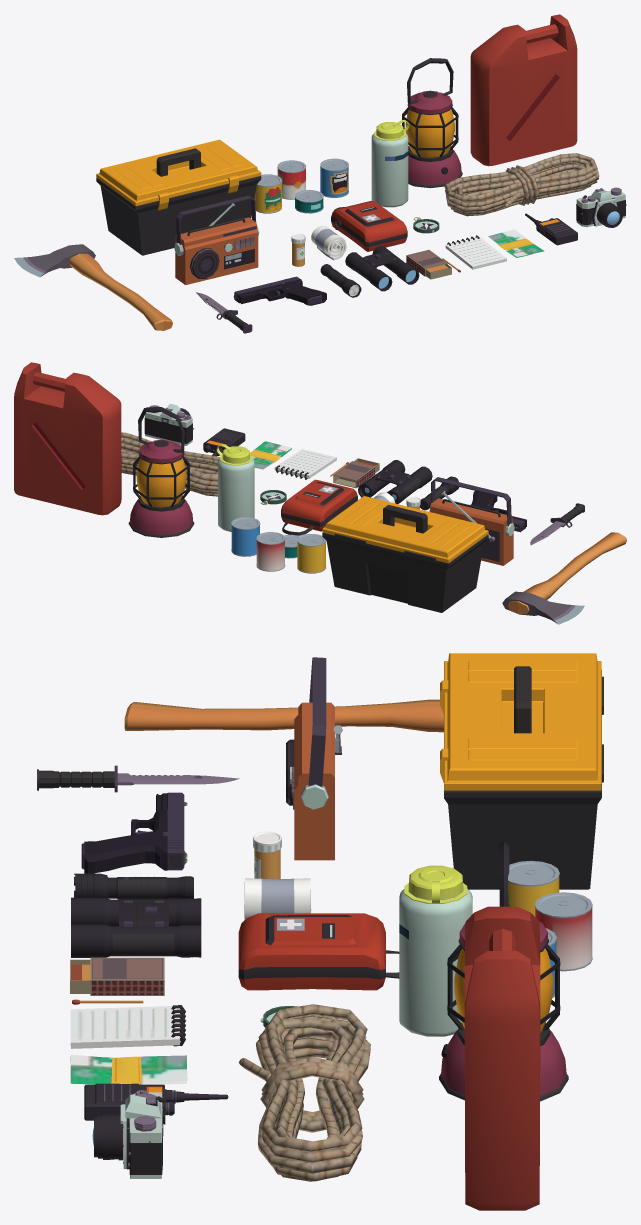
The model's file is survival-props.glb.
3 renders of one model, top to bottom at view 1: azimuth 30°, elevation 25°; view 2: azimuth 150°, elevation 25°; view 3: azimuth 270°, elevation 25°, orthographic. The views are drawn at different scales.
Parts seen in each view (by area): view 1: axe_001_survivalpropsMAT_0; view 2: axe_001_survivalpropsMAT_0; view 3: axe_001_survivalpropsMAT_0.
Part boxes in pixels (bbox=[...]): axe_001_survivalpropsMAT_0: bbox=[14, 14, 626, 333]; axe_001_survivalpropsMAT_0: bbox=[14, 362, 626, 624]; axe_001_survivalpropsMAT_0: bbox=[37, 653, 603, 1210].
Bounding box in the file's own units: 1.5 × 0.3355 × 0.6699.
Materials: 1 (1 with a texture image).
